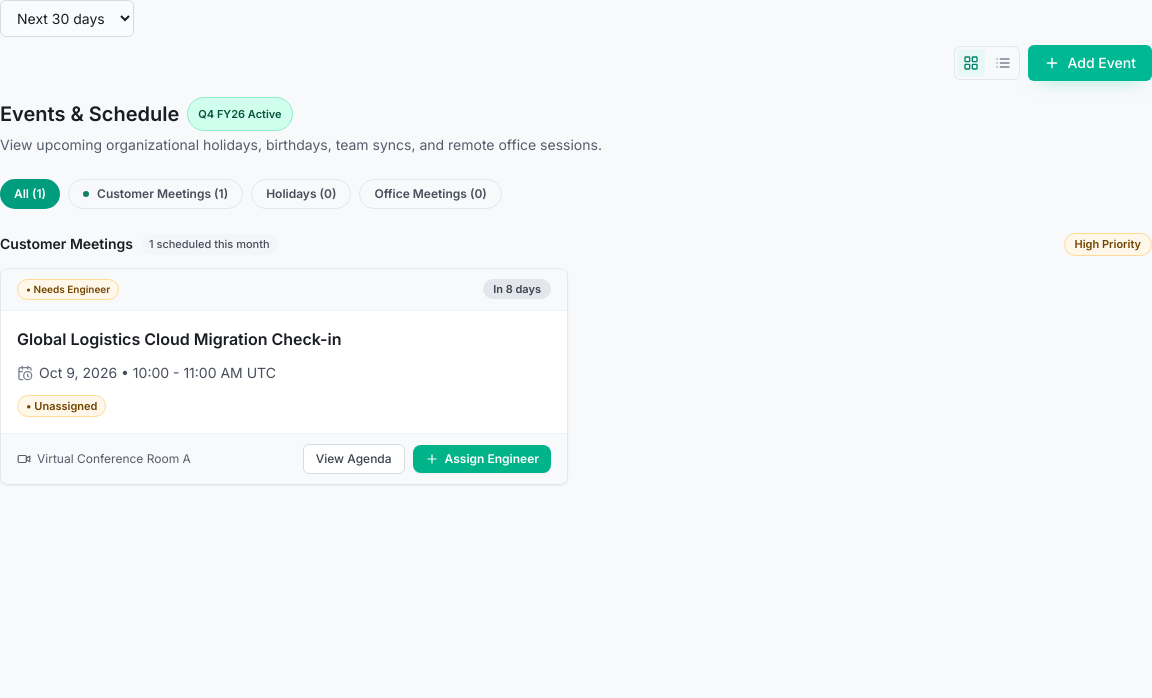
Test: Customer Meeting cards › matches engineers on role as well as name
Click the button "Assign Engineer".
click(482, 459)  # box 413,445 -> 551,473
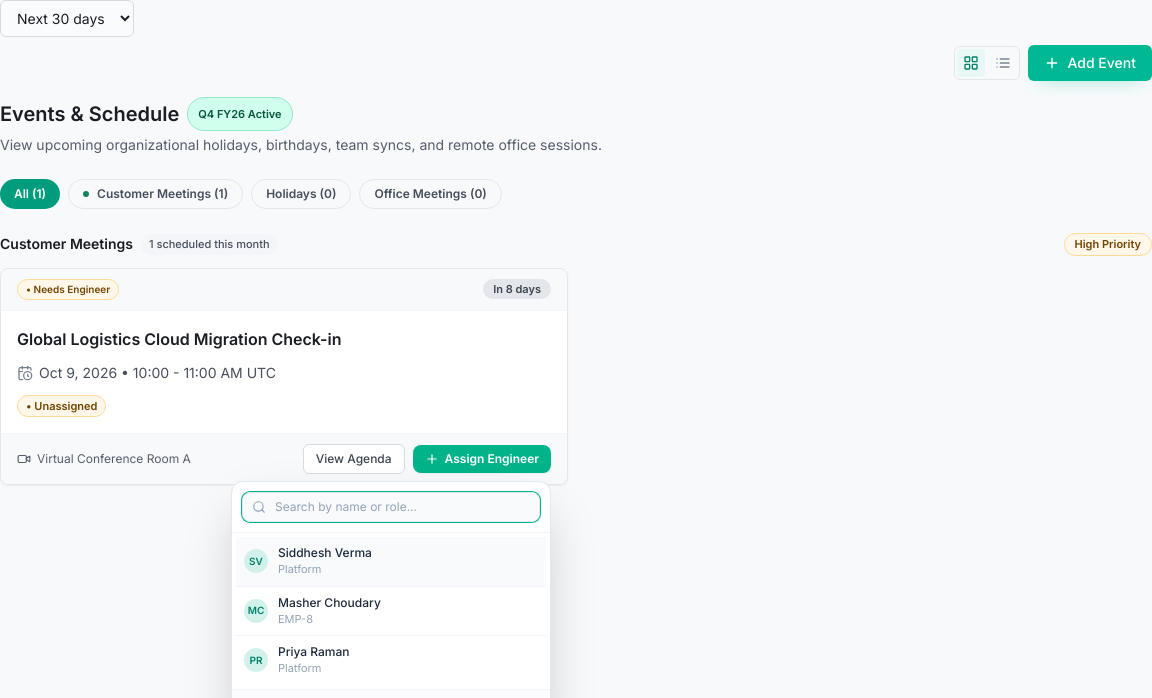
Type "plat" into the dropdown named "Search engineers".
click(391, 507); type("plat")  # box 242,492 -> 540,522
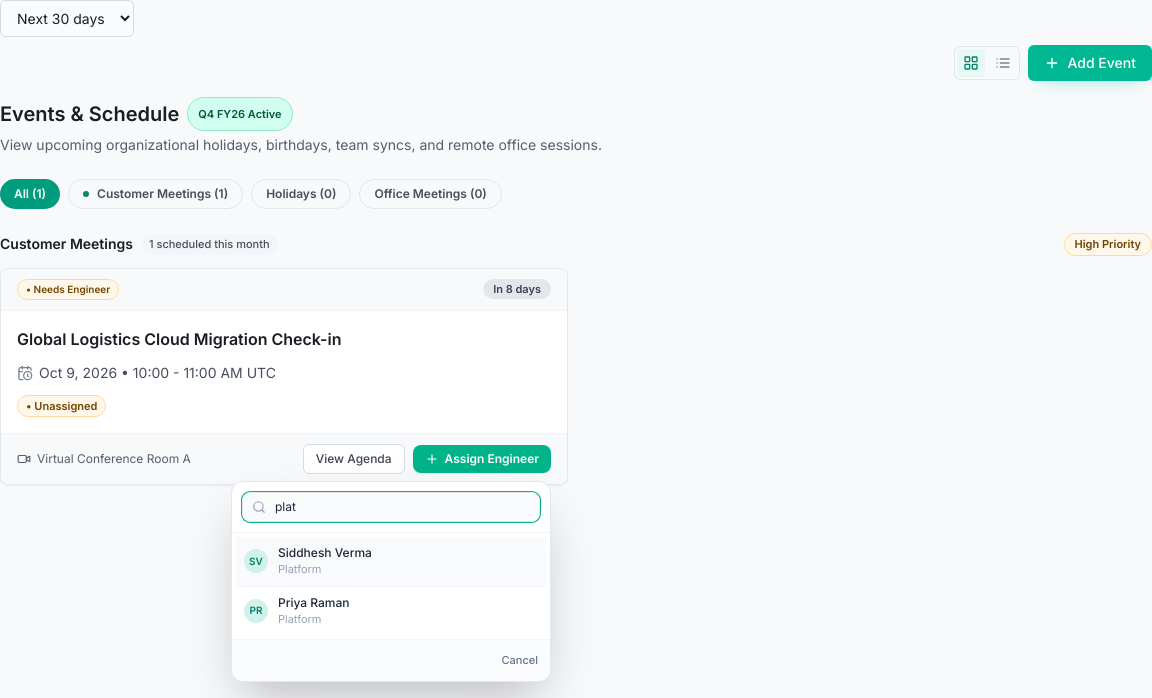
Result: the button "SV Siddhesh Verma Platform" is shown at 236,537 -> 546,586
Result: the button "PR Priya Raman Platform" is shown at 236,586 -> 546,635
Result: the button "Masher Choudary" is gone
